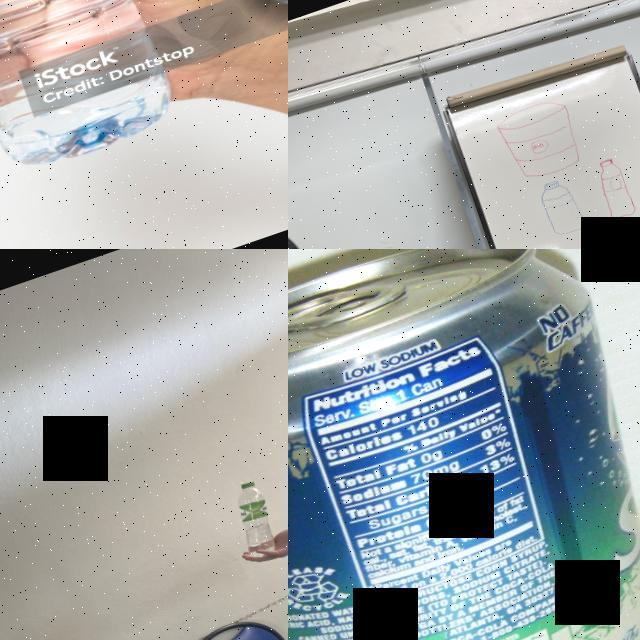bottle: (0, 0, 185, 184), (225, 476, 285, 564)
can: (288, 249, 640, 640)
